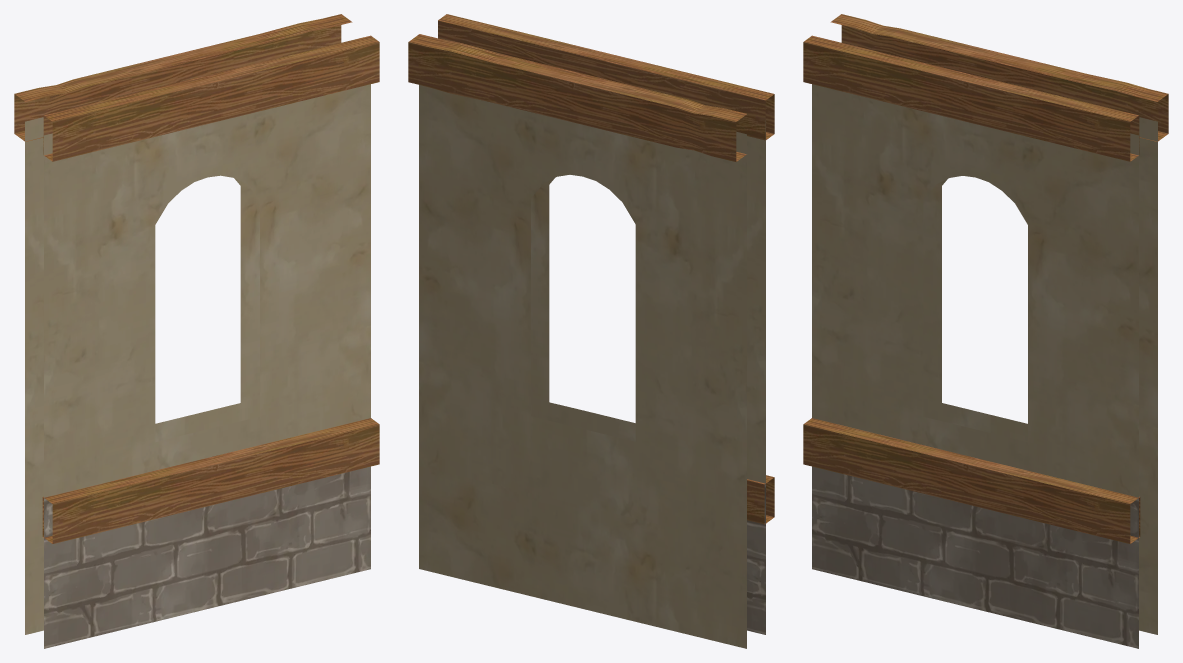
File: Wall_Plaster_Window_Thin_Round.gltf
The picture shows the model from 3 angles, left to right: view 1: azimuth 30°, elevation 25°; view 2: azimuth 150°, elevation 25°; view 3: azimuth 330°, elevation 25°; orthographic projection.
Parts seen in each view (by area): view 1: Wall_Plaster_Window_Thin_Round; view 2: Wall_Plaster_Window_Thin_Round; view 3: Wall_Plaster_Window_Thin_Round.
Part boxes in pixels (<box>): Wall_Plaster_Window_Thin_Round: <box>14,14,379,648</box>; Wall_Plaster_Window_Thin_Round: <box>408,14,774,648</box>; Wall_Plaster_Window_Thin_Round: <box>803,14,1168,648</box>.
Bounding box in the file's own units: 2 × 3.12 × 0.4065.
Materials: 3 (3 with a texture image).
